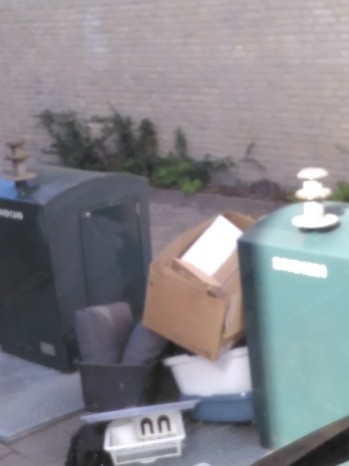Container: (8, 164, 141, 383), (256, 220, 349, 448)
Papier: (151, 232, 253, 370)
Rest: (68, 302, 157, 408), (176, 326, 234, 428), (61, 440, 222, 466)
